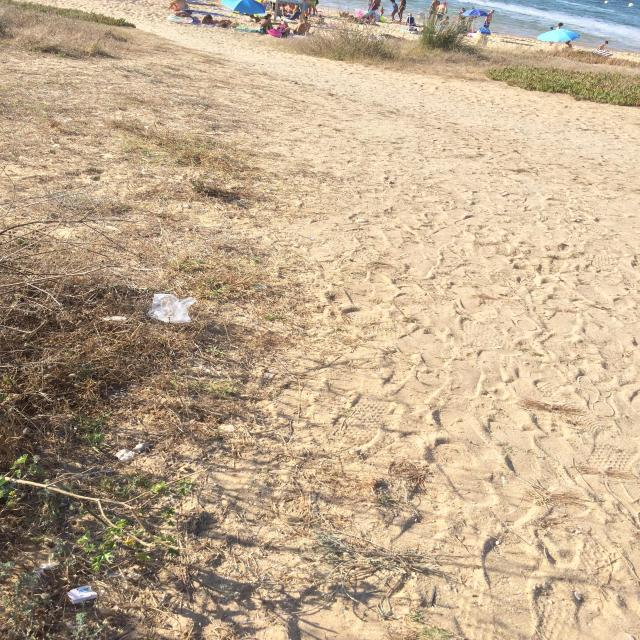Plastic film: (147, 293, 196, 323)
Unlabeled litter: (67, 585, 98, 604)
